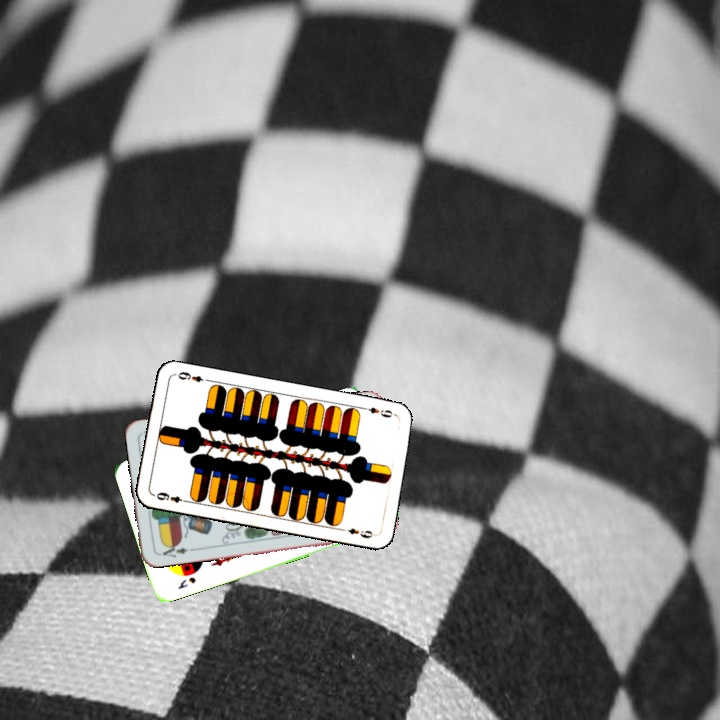E9: (358, 403, 398, 420), (152, 488, 191, 505)
EA: (155, 539, 195, 560)
SK: (174, 573, 198, 592)
